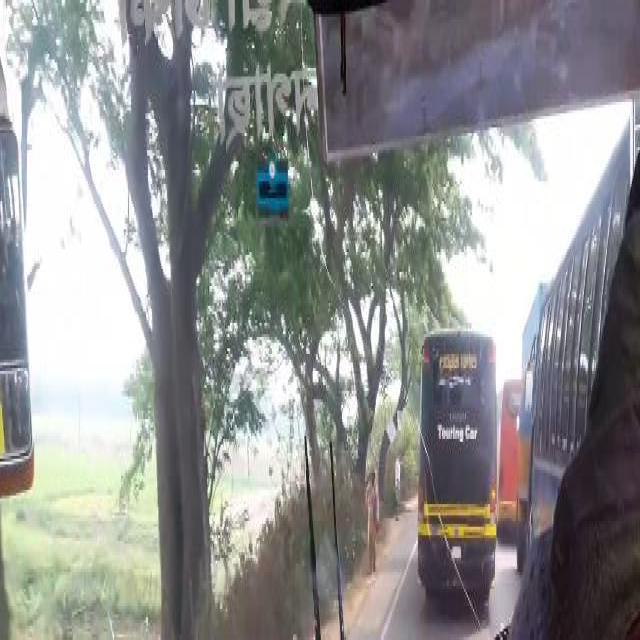bus: (528, 116, 628, 541), (417, 326, 495, 600), (497, 371, 515, 527)
truck: (518, 280, 536, 561)
